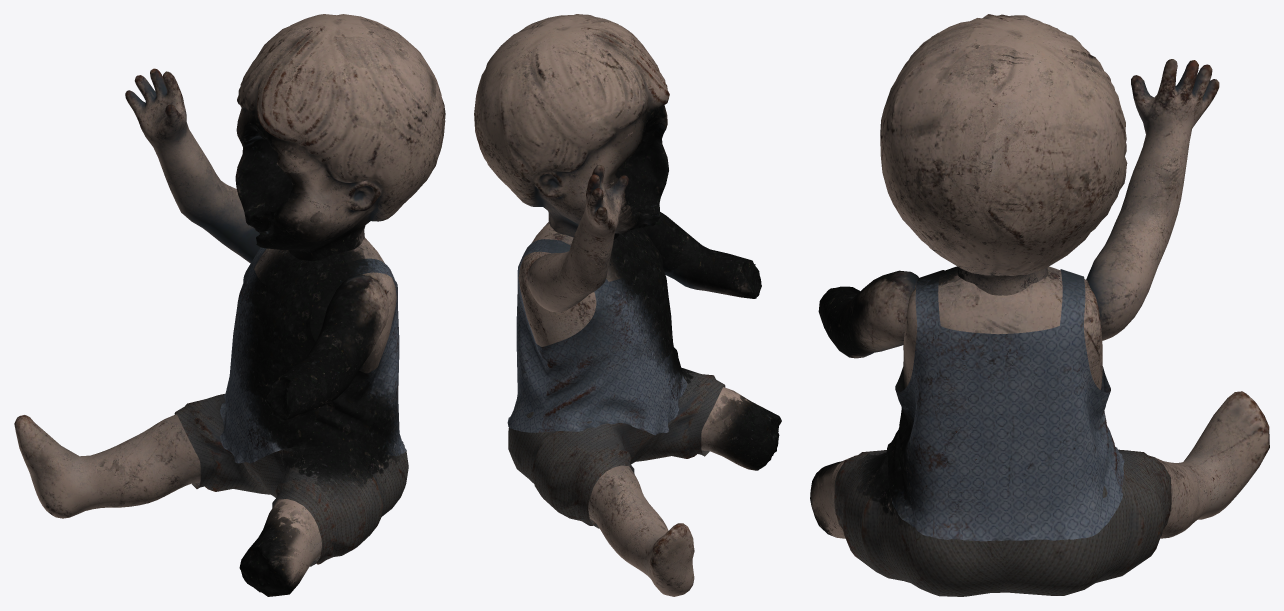
Rendered from SM_BurnedDoll_1.fbx.
3 renders of one model, left to right at view 1: azimuth 30°, elevation 25°; view 2: azimuth 150°, elevation 25°; view 3: azimuth 270°, elevation 25°, orthographic. The views are drawn at different scales.
Parts seen in each view (by area): view 1: SM_BurnedDoll_1; view 2: SM_BurnedDoll_1; view 3: SM_BurnedDoll_1.
Boxes of the visible parts, x1=… form: SM_BurnedDoll_1: x1=14, y1=14, x2=445, y2=596; SM_BurnedDoll_1: x1=474, y1=14, x2=781, y2=596; SM_BurnedDoll_1: x1=810, y1=14, x2=1269, y2=596.
Bounding box in the file's own units: 14.74 × 15.63 × 22.51.
Materials: 1 (1 with a texture image).
